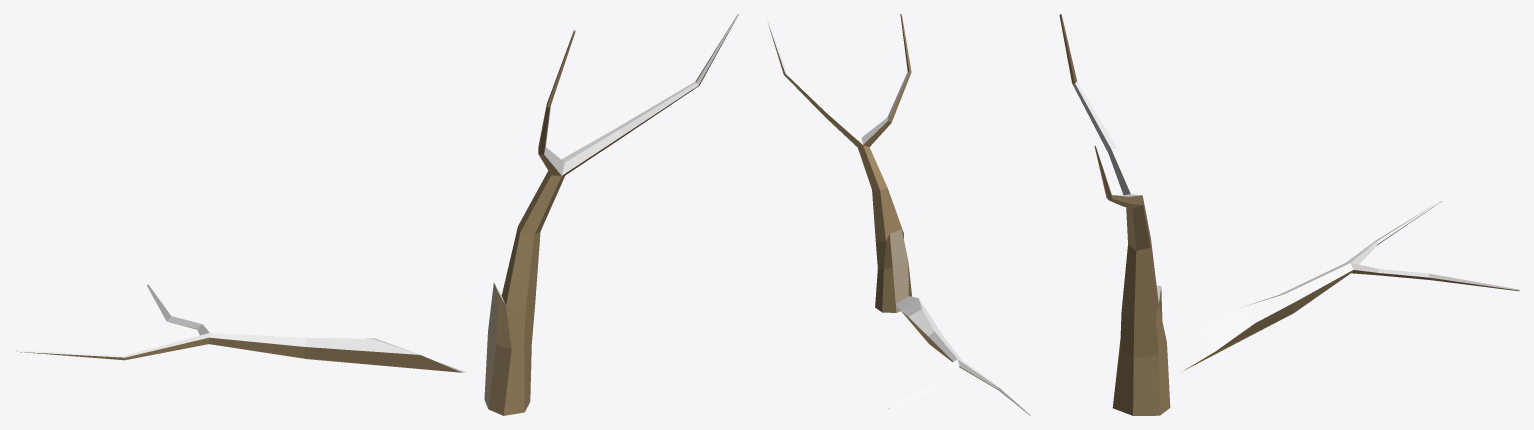
File: Apple_Tree_NoLeaves_crk_m_Snow_03_LOD.fbx
3 views of the same model, side by side, from view 1: azimuth 30°, elevation 25°; view 2: azimuth 150°, elevation 25°; view 3: azimuth 270°, elevation 25° (orthographic). The views are drawn at different scales.
Visible parts, largest first — view 1: Apple_Tree_NoLeaves_crk_m_Snow_03_LOD0; view 2: Apple_Tree_NoLeaves_crk_m_Snow_03_LOD0; view 3: Apple_Tree_NoLeaves_crk_m_Snow_03_LOD0.
Part boxes in pixels (left/top/right/bottom): Apple_Tree_NoLeaves_crk_m_Snow_03_LOD0: left=14, top=14, right=738, bottom=415; Apple_Tree_NoLeaves_crk_m_Snow_03_LOD0: left=767, top=14, right=1030, bottom=415; Apple_Tree_NoLeaves_crk_m_Snow_03_LOD0: left=1059, top=14, right=1519, bottom=415.
Size of what is drawn, in the model's own units: 686 by 465 by 476.
